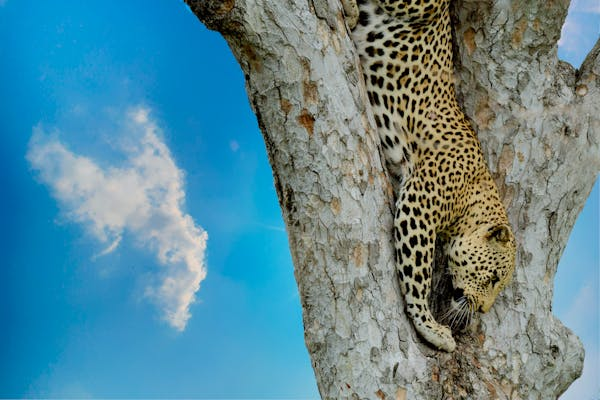Leopard: (350, 1, 516, 353)
